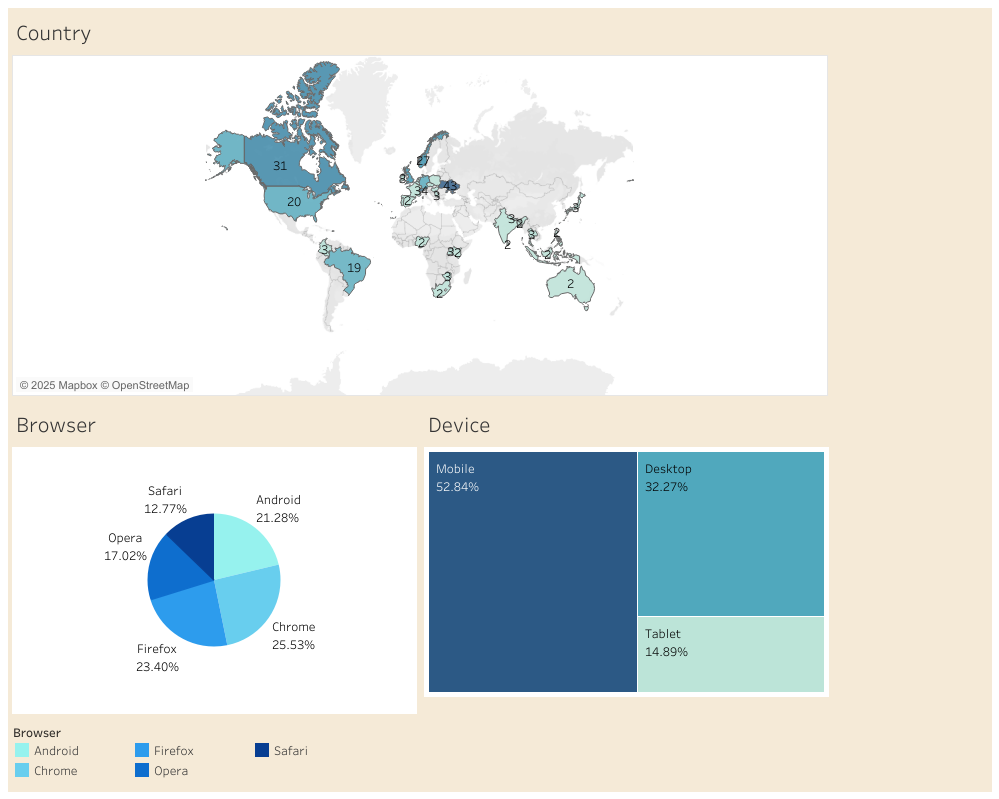

What the dashboard file says about the page in this screenshot:
{"tool":"tableau","page":{"name":"Dashboard 1","canvas":[1000,800],"ordinal":0},"visuals":[{"type":"worksheet","title":"Country","mark":"Automatic","box":[8,8,824,392]},{"type":"legend","title":"Device","param":"[federated.1fcipb51mt5fwf1fljv8b086p8q2].[cnt:Email:qk]","box":[832,8,160,22]},{"type":"worksheet","title":"Browser","mark":"Pie","box":[8,400,412,317]},{"type":"worksheet","title":"Device","mark":"Automatic","box":[420,400,412,392]},{"type":"legend","title":"Browser","param":"[federated.1fcipb51mt5fwf1fljv8b086p8q2].[none:Browser:nk]","box":[8,717,412,75]}]}

Visuals, with their boxes in screenshot pixels (x1, y1, x2, y2), scaled from the page's 1000x800 canvas onto the 999x799 screenshot:
"Country" worksheet: box=[8, 8, 831, 400]
"Device" legend: box=[831, 8, 991, 30]
"Browser" worksheet (Pie marks): box=[8, 400, 420, 716]
"Device" worksheet: box=[420, 400, 831, 791]
"Browser" legend: box=[8, 716, 420, 791]
